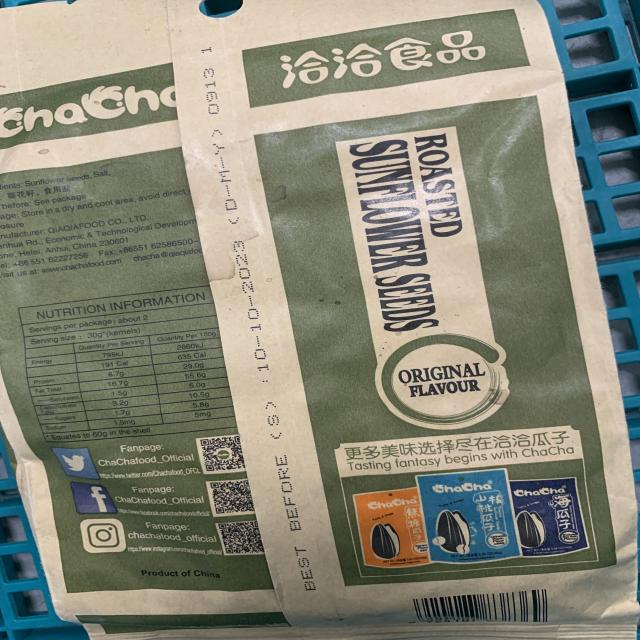object_name: (7, 5, 604, 633)
